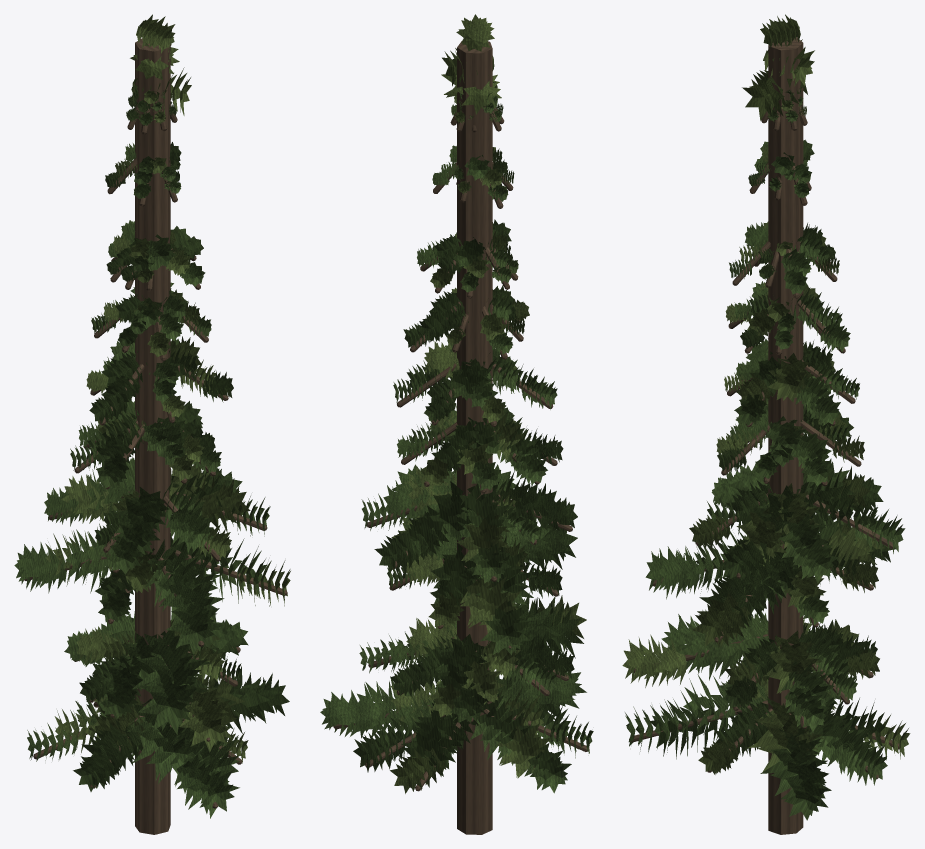
The model's file is pine_a.glb.
3 renders of one model, left to right at view 1: azimuth 30°, elevation 25°; view 2: azimuth 150°, elevation 25°; view 3: azimuth 270°, elevation 25°, orthographic.
Visible parts, largest first — view 1: Pine needles, Sunlit pine tips, Dark endgrain; view 2: Pine needles, Sunlit pine tips, Dark endgrain; view 3: Pine needles, Sunlit pine tips, Dark endgrain.
Part boxes in pixels (x1=…): Pine needles: x1=14, y1=85, x2=289, y2=818; Sunlit pine tips: x1=45, y1=14, x2=290, y2=763; Dark endgrain: x1=24, y1=38, x2=287, y2=834; Pine needles: x1=320, y1=92, x2=593, y2=793; Sunlit pine tips: x1=390, y1=14, x2=586, y2=793; Dark endgrain: x1=333, y1=41, x2=589, y2=834; Pine needles: x1=625, y1=85, x2=905, y2=820; Sunlit pine tips: x1=622, y1=14, x2=910, y2=774; Dark endgrain: x1=629, y1=37, x2=899, y2=834.
Bounding box in the file's own units: 1.23 × 3.85 × 1.24.
Materials: 3 (3 with a texture image).
